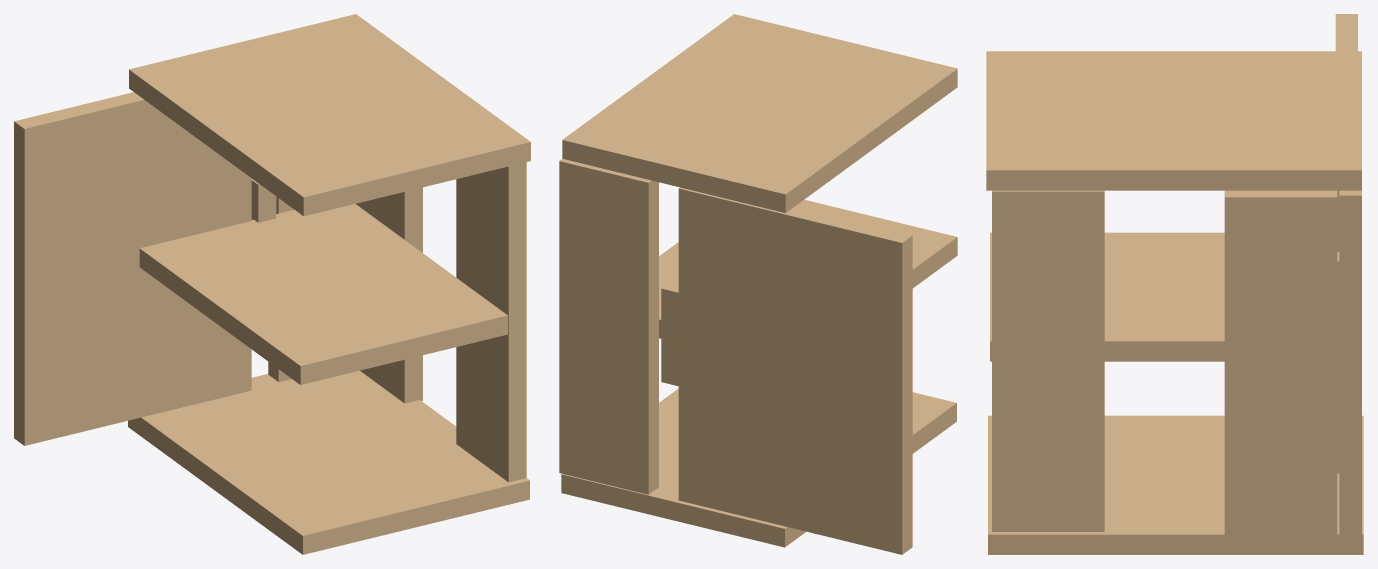
File: tinker.obj
3 renders of one model, left to right at view 1: azimuth 30°, elevation 25°; view 2: azimuth 150°, elevation 25°; view 3: azimuth 270°, elevation 25°, orthographic. The views are drawn at different scales.
Visible parts, largest first — view 1: obj_0; view 2: obj_0; view 3: obj_0.
Boxes of the visible parts, x1=… form: obj_0: x1=14, y1=14, x2=530, y2=554; obj_0: x1=559, y1=14, x2=957, y2=554; obj_0: x1=986, y1=14, x2=1363, y2=554.
Bounding box in the file's own units: 229 × 226 × 201.
